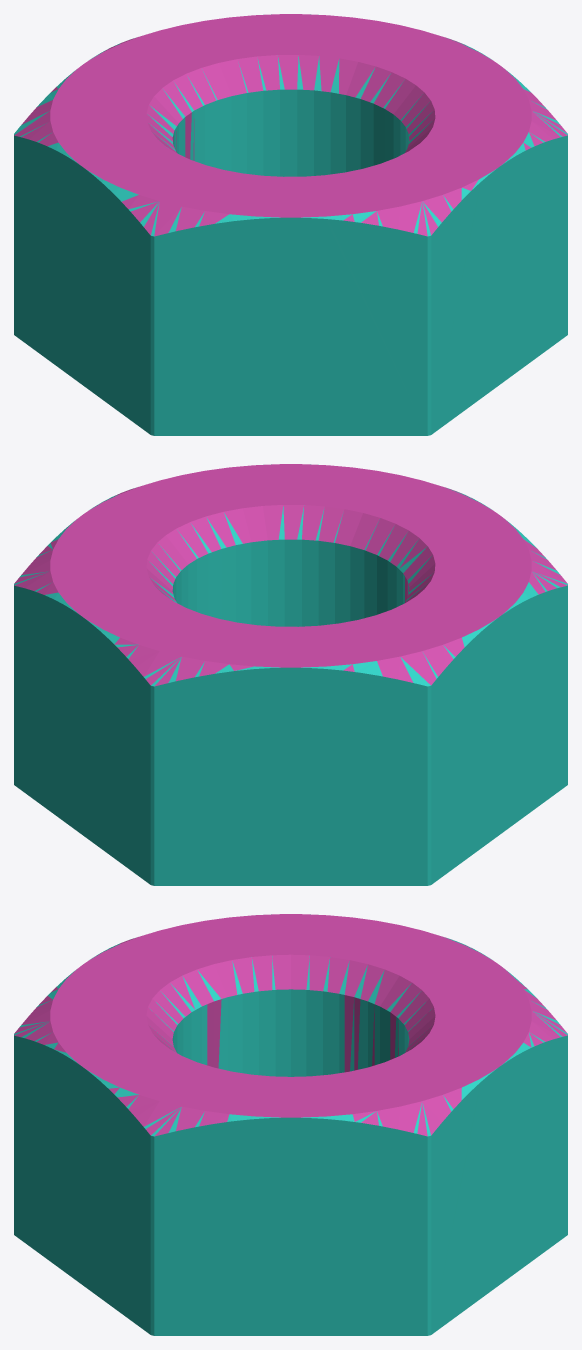
The model's file is M6_nut_.dae.
3 renders of one model, top to bottom at view 1: azimuth 30°, elevation 25°; view 2: azimuth 150°, elevation 25°; view 3: azimuth 270°, elevation 25°, orthographic.
Visible parts, largest first — view 1: M6_Nut; view 2: M6_Nut; view 3: M6_Nut.
Boxes of the visible parts, <box> form: M6_Nut: <box>14,14,567,435</box>; M6_Nut: <box>14,464,567,885</box>; M6_Nut: <box>14,914,567,1335</box>.
Size of the model in its own units: 0.01 by 0.0115 by 0.005.
